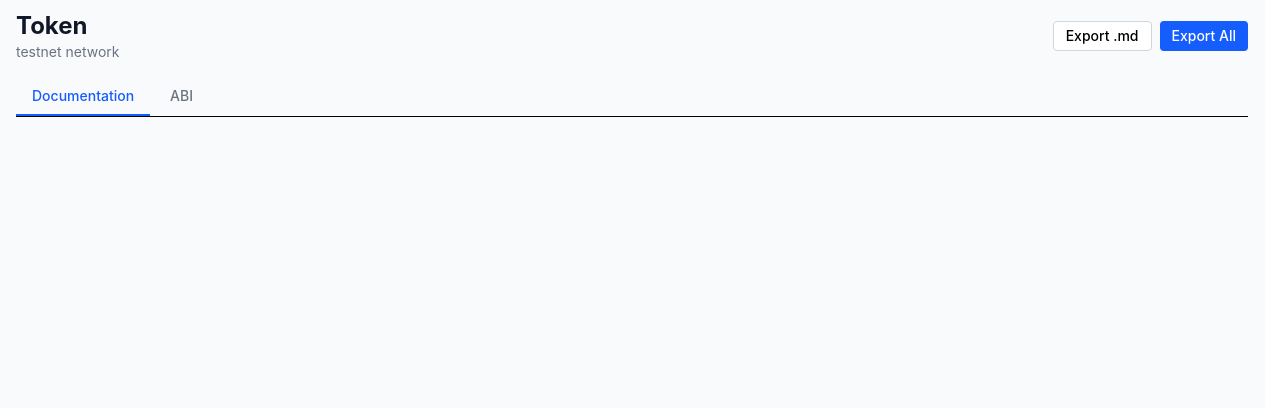
Test: PreviewPane › shows ABI tab content
This screenshot has width=1265, height=408.
Click the button "ABI" at (182, 97), box [154,78,209,116]
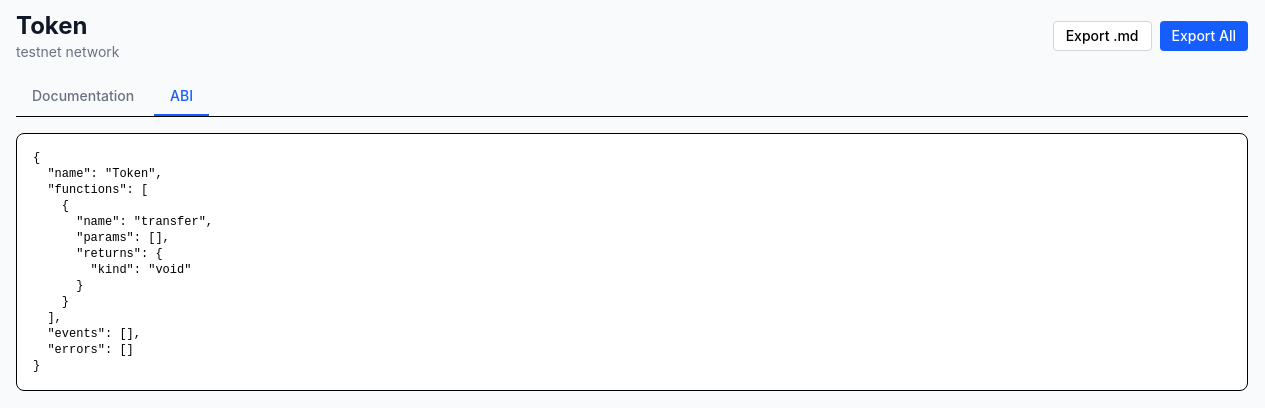
Check: the text "\"name\": \"Token\"" is shown, box [33,151,213,373]
